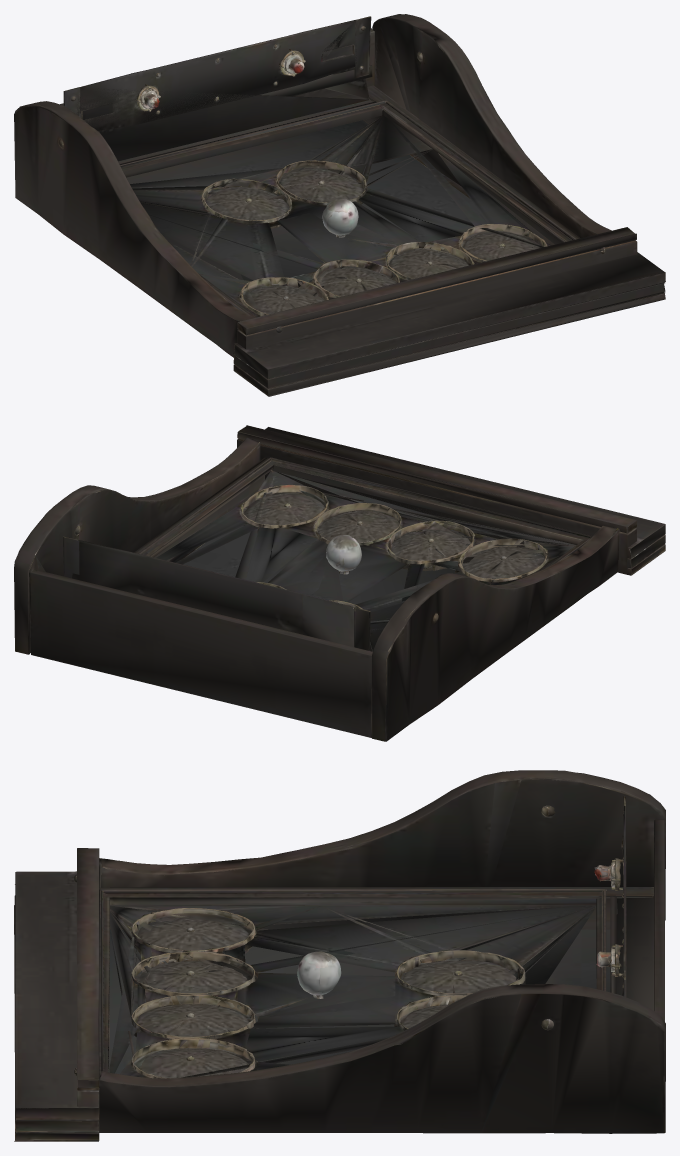
The model's file is lane.glb.
3 views of the same model, one above another, from view 1: azimuth 30°, elevation 25°; view 2: azimuth 150°, elevation 25°; view 3: azimuth 270°, elevation 25° (orthographic). The views are drawn at different scales.
Parts seen in each view (by area): view 1: midway-fit; view 2: midway-fit; view 3: midway-fit.
Boxes of the visible parts, x1=… form: midway-fit: x1=14, y1=14, x2=665, y2=396; midway-fit: x1=14, y1=425, x2=665, y2=741; midway-fit: x1=14, y1=770, x2=665, y2=1141.
Size of the model in its own units: 0.8604 by 0.2408 by 1.
Materials: 1 (1 with a texture image).
